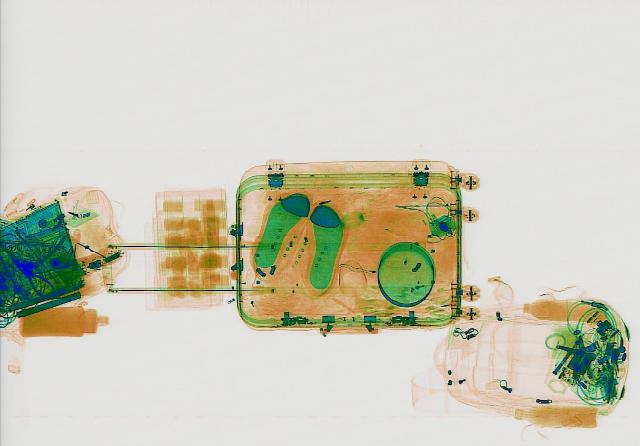Pliers: (6, 254, 58, 296)
